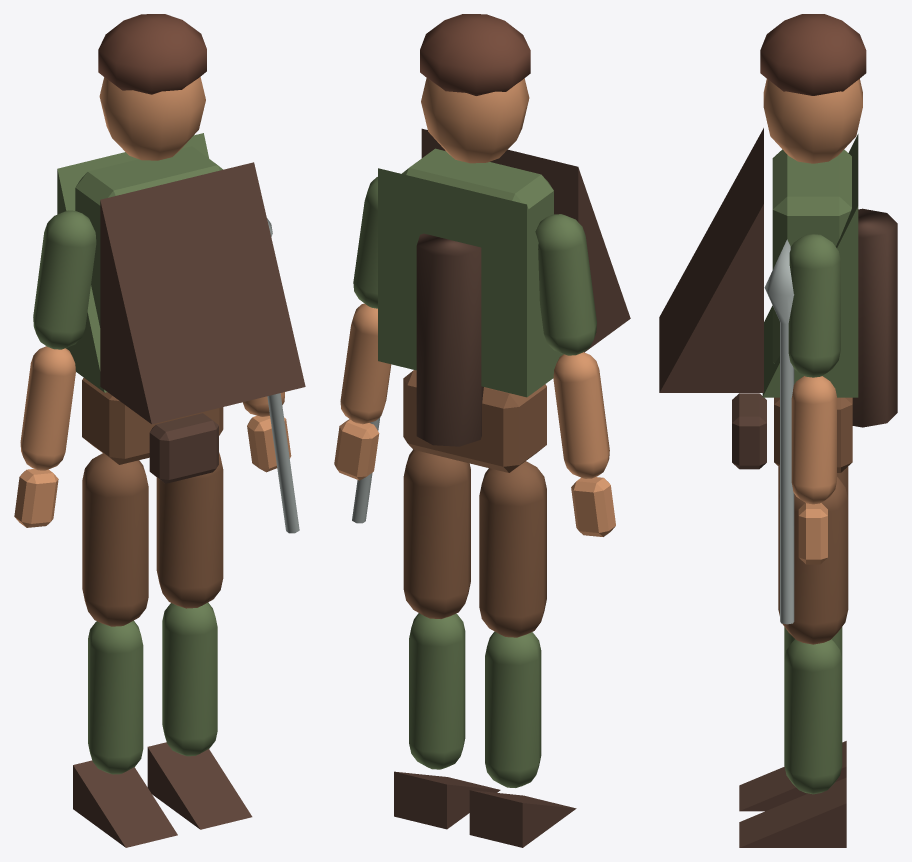
The model's file is adventurer.rustic.glb.
3 views of the same model, side by side, from view 1: azimuth 30°, elevation 25°; view 2: azimuth 150°, elevation 25°; view 3: azimuth 270°, elevation 25° (orthographic).
Visible parts, largest first — view 1: accessory.body, thigh.left, thigh.right, shin.left, shin.right, hair, upper-arm.left, head, foot.right, foot.left, forearm.left, torso (+6 smaller); view 2: tunic, accessory.back, thigh.left, thigh.right, shin.right, shin.left, hair, upper-arm.left, pelvis, head, accessory.body, forearm.left (+8 smaller); view 3: accessory.body, accessory.back, shin.right, hair, torso, upper-arm.right, thigh.right, head, forearm.right, accessory.main-hand, tunic, foot.right (+4 smaller).
Boxes of the visible parts, x1,y1,x2,y2 form: accessory.body: (100, 162, 305, 424); thigh.left: (82, 453, 148, 626); thigh.right: (156, 452, 223, 608); shin.left: (88, 620, 143, 774); shin.right: (162, 602, 217, 756); hair: (98, 14, 206, 94); upper-arm.left: (33, 210, 96, 349); head: (99, 77, 205, 160); foot.right: (147, 742, 252, 829); foot.left: (73, 760, 177, 847); forearm.left: (20, 346, 75, 470); torso: (75, 146, 222, 327); tunic: (378, 168, 563, 397); accessory.back: (416, 233, 483, 446); thigh.left: (479, 461, 546, 637); thigh.right: (403, 449, 470, 618); shin.right: (409, 613, 465, 769); shin.left: (485, 631, 541, 787); hair: (420, 14, 530, 95); upper-arm.left: (535, 214, 596, 355); pelvis: (403, 370, 546, 472); head: (421, 78, 529, 163); accessory.body: (421, 128, 630, 352); forearm.left: (553, 352, 609, 478); accessory.body: (659, 128, 763, 392); accessory.back: (852, 208, 897, 427); shin.right: (784, 639, 842, 794); hair: (760, 14, 866, 95); torso: (772, 149, 851, 363); upper-arm.right: (788, 234, 840, 377); thigh.right: (778, 477, 848, 644); head: (763, 79, 862, 163); forearm.right: (791, 376, 836, 504); accessory.main-hand: (764, 239, 794, 624); tunic: (762, 134, 858, 397); foot.right: (739, 777, 846, 847).
Size of the model in its own units: 1.09 by 3.03 by 0.82.
